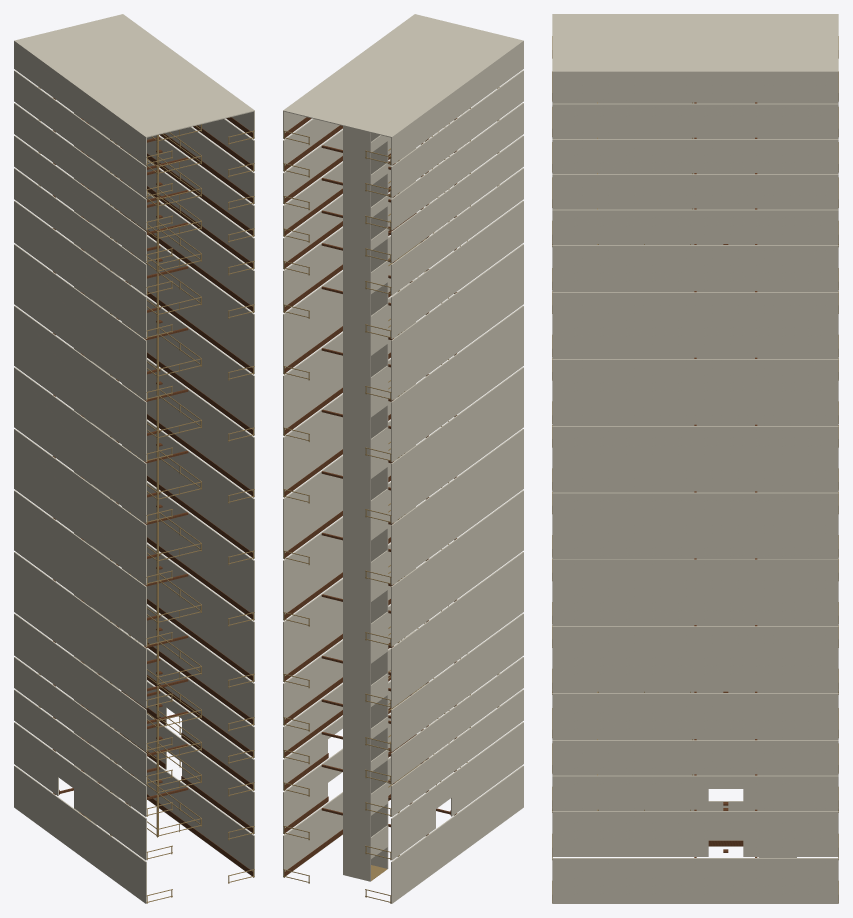
The model's file is AST-CIR-005_aft_solar_inspection_d02.glb.
3 views of the same model, side by side, from view 1: azimuth 30°, elevation 25°; view 2: azimuth 150°, elevation 25°; view 3: azimuth 270°, elevation 25° (orthographic). The views are drawn at different scales.
Parts seen in each view (by area): view 1: CORE_BATCH_ivory_enamel, CORE_BATCH_warm_walnut, CORE_BATCH_champagne_metal, CORE_OuterWall_01_-1_Solar_Aft, CORE_OuterWall_01_1_Inspection_Aft, CORE_OuterWall_02_1_Uniforms_Aft, CORE_OuterWall_01_-1_Solar_Fore, CORE_OuterWall_01_1_Inspection_Fore; view 2: CORE_BATCH_ivory_enamel, CORE_BATCH_warm_walnut, CORE_BATCH_champagne_metal, CORE_OuterWall_01_-1_Solar_Aft, CORE_OuterWall_01_-1_Solar_Fore, CORE_OuterWall_01_1_Inspection_Fore, CORE_OuterWall_02_1_Uniforms_Fore; view 3: CORE_BATCH_ivory_enamel, CORE_OuterWall_01_1_Inspection_Aft, CORE_OuterWall_02_1_Uniforms_Aft, CORE_OuterWall_01_1_Inspection_Fore, CORE_OuterWall_02_1_Uniforms_Fore, CORE_BATCH_champagne_metal, CORE_OuterWall_01_1_Inspection_Header.
Part boxes in pixels (bbox=[...]): CORE_BATCH_ivory_enamel: bbox=[14, 14, 254, 903]; CORE_BATCH_warm_walnut: bbox=[53, 97, 253, 875]; CORE_BATCH_champagne_metal: bbox=[38, 87, 254, 903]; CORE_OuterWall_01_-1_Solar_Aft: bbox=[74, 766, 146, 860]; CORE_OuterWall_01_1_Inspection_Aft: bbox=[182, 739, 254, 833]; CORE_OuterWall_02_1_Uniforms_Aft: bbox=[182, 707, 254, 790]; CORE_OuterWall_01_-1_Solar_Fore: bbox=[14, 722, 58, 795]; CORE_OuterWall_01_1_Inspection_Fore: bbox=[147, 714, 166, 769]; CORE_BATCH_ivory_enamel: bbox=[283, 14, 523, 903]; CORE_BATCH_warm_walnut: bbox=[284, 117, 456, 875]; CORE_BATCH_champagne_metal: bbox=[283, 87, 499, 903]; CORE_OuterWall_01_-1_Solar_Aft: bbox=[451, 722, 523, 816]; CORE_OuterWall_01_-1_Solar_Fore: bbox=[391, 786, 435, 860]; CORE_OuterWall_01_1_Inspection_Fore: bbox=[283, 760, 327, 833]; CORE_OuterWall_02_1_Uniforms_Fore: bbox=[283, 727, 327, 790]; CORE_BATCH_ivory_enamel: bbox=[552, 14, 838, 903]; CORE_OuterWall_01_1_Inspection_Aft: bbox=[552, 811, 708, 856]; CORE_OuterWall_02_1_Uniforms_Aft: bbox=[552, 775, 708, 809]; CORE_OuterWall_01_1_Inspection_Fore: bbox=[743, 811, 838, 856]; CORE_OuterWall_02_1_Uniforms_Fore: bbox=[743, 775, 838, 809]; CORE_BATCH_champagne_metal: bbox=[552, 36, 838, 902]; CORE_OuterWall_01_1_Inspection_Header: bbox=[708, 811, 743, 835].
Bounding box in the file's own units: 15.76 × 106 × 33.08.
4 materials, 3 textured.
